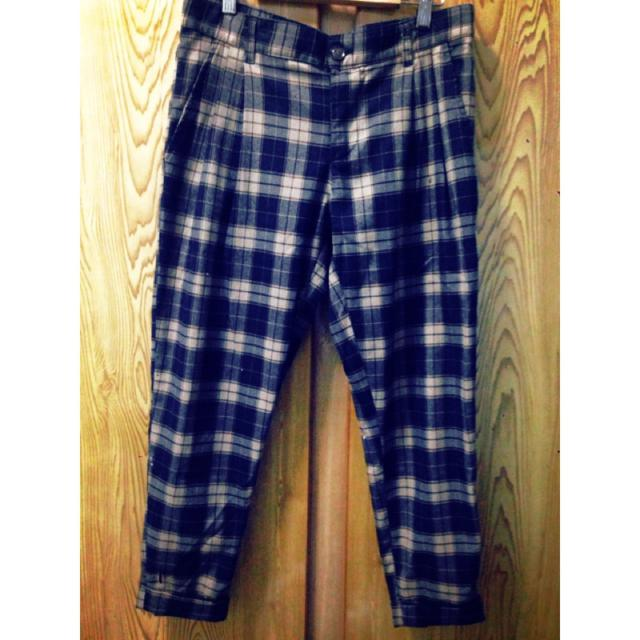Pants_Leggings: (134, 2, 486, 632)
